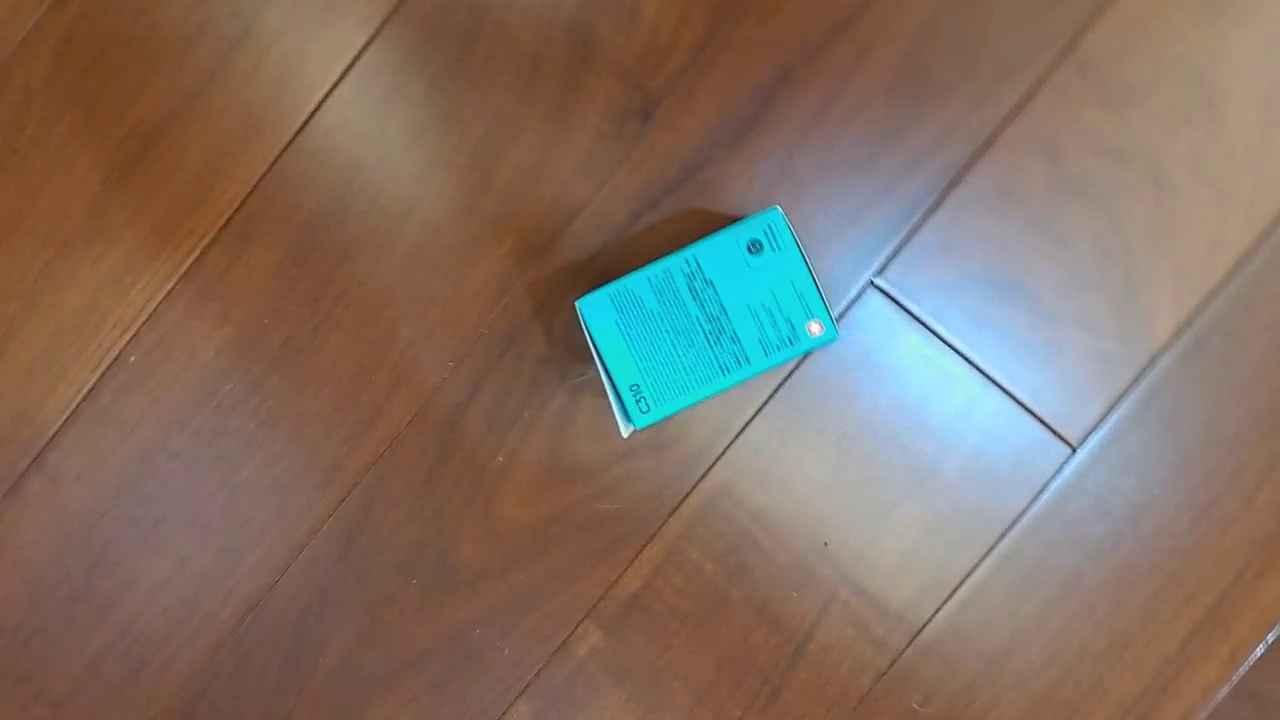webcam: (573, 204, 841, 440)
